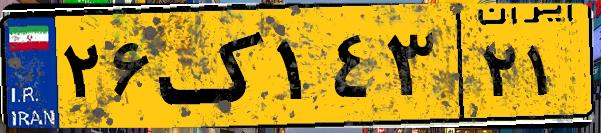1: (270, 28, 330, 110), (525, 38, 570, 115)
2: (57, 26, 110, 100), (475, 38, 525, 113)
3: (385, 28, 445, 110)
4: (330, 28, 385, 110)
6: (110, 28, 158, 98)
ک: (158, 12, 270, 120)
